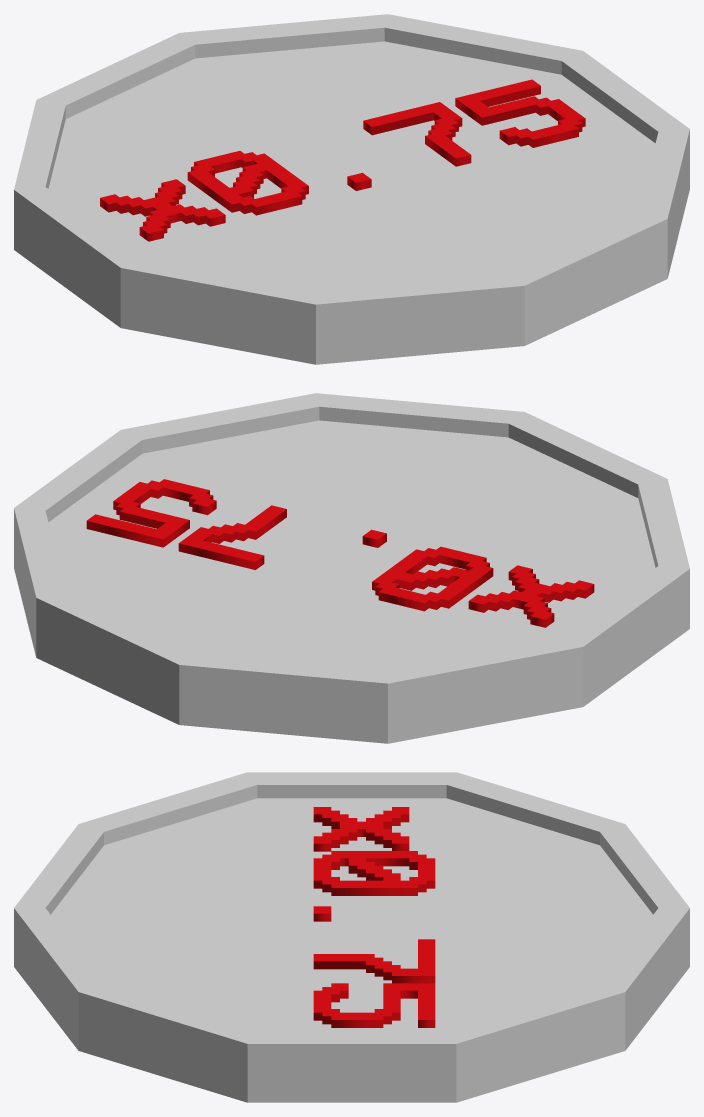
Rendered from coin.glb.
The picture shows the model from 3 angles, top to bottom: view 1: azimuth 30°, elevation 25°; view 2: azimuth 150°, elevation 25°; view 3: azimuth 270°, elevation 25°; orthographic projection. The views are drawn at different scales.
Parts seen in each view (by area): view 1: coin, 0.75; view 2: coin, 0.75; view 3: coin, 0.75.
Boxes of the visible parts, box(x1,y1,x2,y2) form: coin: box(14, 14, 689, 364); 0.75: box(100, 79, 585, 241); coin: box(14, 393, 689, 743); 0.75: box(86, 479, 594, 627); coin: box(14, 772, 689, 1102); 0.75: box(313, 807, 435, 1027).
Size of the model in its own units: 1.9 by 0.1923 by 2.
